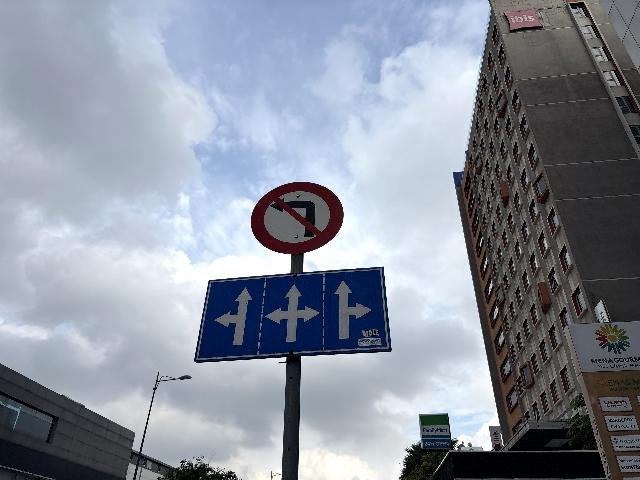cam-re-trai: (249, 179, 344, 254)
